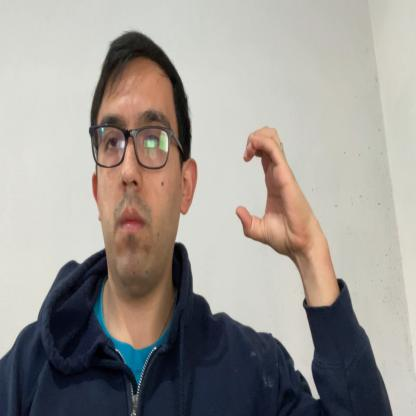C: (235, 124, 302, 259)
